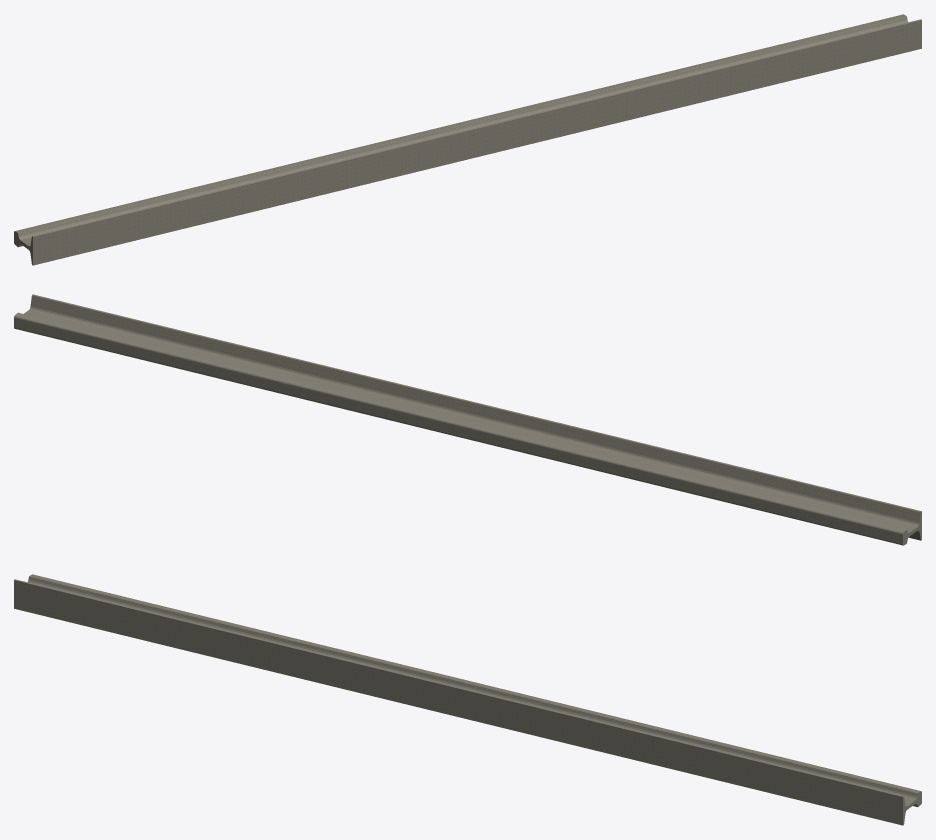
File: RailAltered.obj
3 views of the same model, one above another, from view 1: azimuth 30°, elevation 25°; view 2: azimuth 150°, elevation 25°; view 3: azimuth 330°, elevation 25° (orthographic).
Parts seen in each view (by area): view 1: Mesh_Mesh_Rail; view 2: Mesh_Mesh_Rail; view 3: Mesh_Mesh_Rail.
Boxes of the visible parts, x1,y1,x2,y2 form: Mesh_Mesh_Rail: [14, 14, 921, 265]; Mesh_Mesh_Rail: [14, 294, 921, 545]; Mesh_Mesh_Rail: [14, 574, 921, 825].
Bounding box in the file's own units: 5 × 0.1555 × 0.1858.
Materials: 1 (1 with a texture image).
